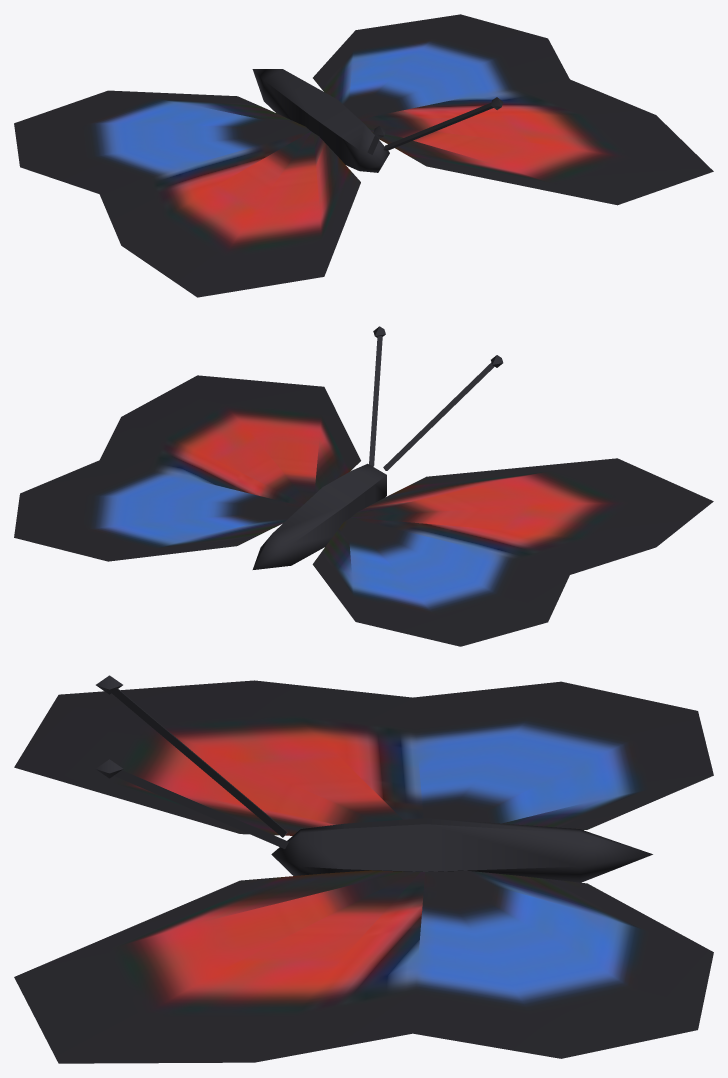
Rendered from agrias-butterfly.glb.
The picture shows the model from 3 angles, top to bottom: view 1: azimuth 30°, elevation 25°; view 2: azimuth 150°, elevation 25°; view 3: azimuth 270°, elevation 25°; orthographic projection. The views are drawn at different scales.
Parts seen in each view (by area): view 1: agrias-butterfly; view 2: agrias-butterfly; view 3: agrias-butterfly.
Boxes of the visible parts, box(x1,y1,x2,y2) form: agrias-butterfly: box(14, 14, 713, 297); agrias-butterfly: box(14, 326, 713, 646); agrias-butterfly: box(14, 675, 713, 1063).
Size of the model in its own units: 4.59 by 0.9683 by 3.55.
Materials: 2 (1 with a texture image).
